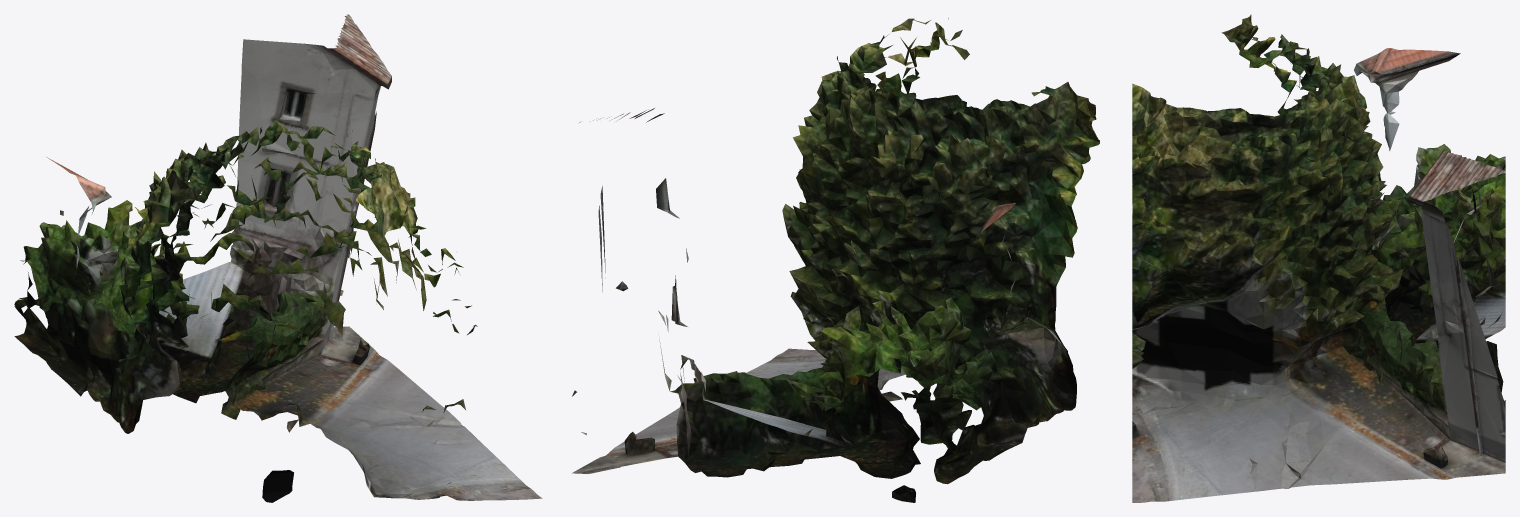
3 views of the same model, side by side, from view 1: azimuth 30°, elevation 25°; view 2: azimuth 150°, elevation 25°; view 3: azimuth 270°, elevation 25° (orthographic). The views are drawn at different scales.
Bounding box in the file's own units: 13.4 × 13.13 × 13.4.
8 materials, 8 textured.
